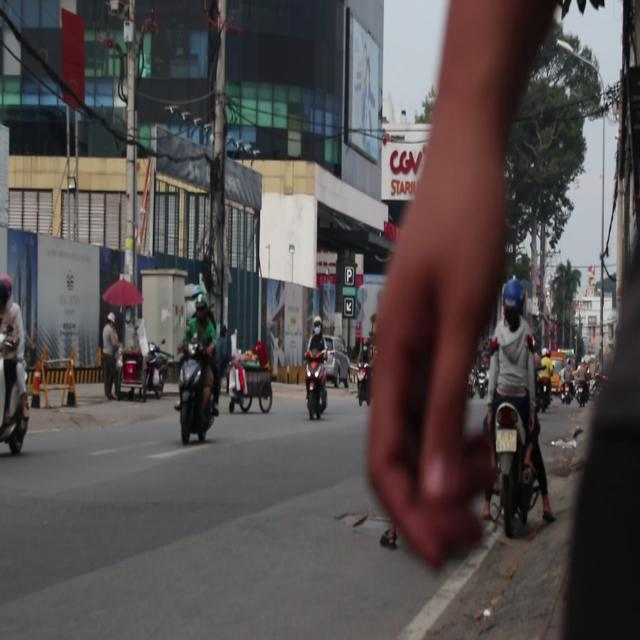car: (321, 336, 351, 388)
motorbike: (492, 402, 550, 540), (0, 333, 36, 466), (175, 343, 220, 444), (303, 346, 328, 426), (143, 344, 170, 400), (576, 382, 590, 408)
